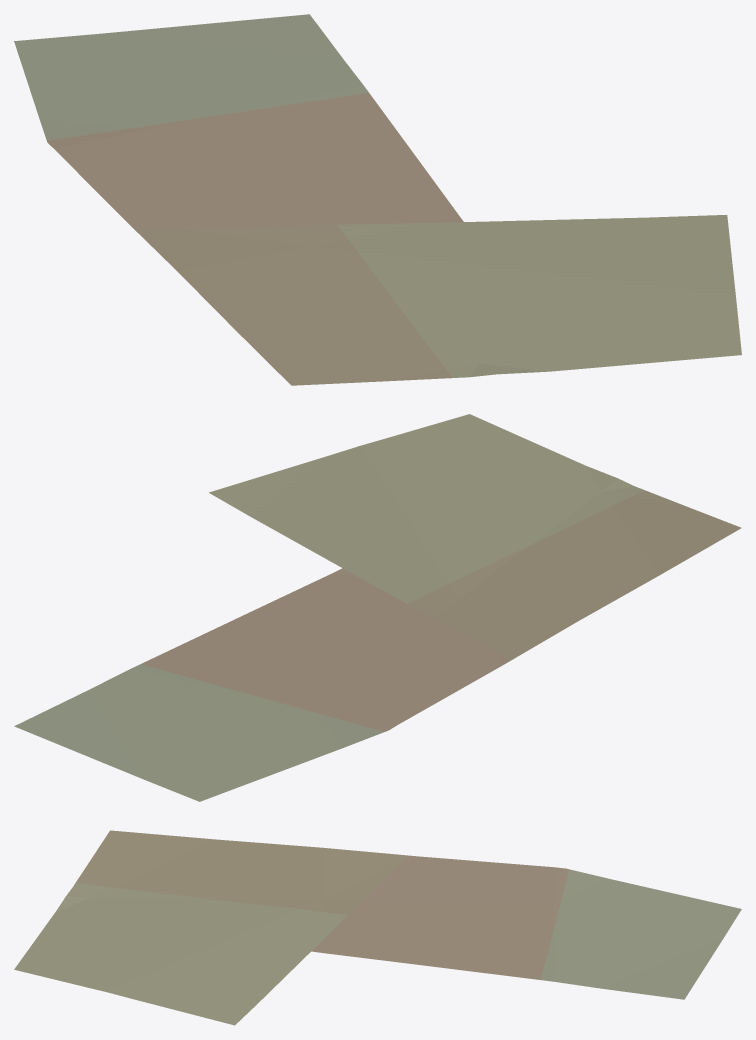
File: farm_3_5_soil.glb
The picture shows the model from 3 angles, top to bottom: view 1: azimuth 30°, elevation 25°; view 2: azimuth 150°, elevation 25°; view 3: azimuth 270°, elevation 25°; orthographic projection. The views are drawn at different scales.
Parts seen in each view (by area): view 1: geometry_0; view 2: geometry_0; view 3: geometry_0.
Part boxes in pixels (x1,y1,x2,y2): geometry_0: (14, 14, 741, 385); geometry_0: (14, 414, 741, 801); geometry_0: (14, 830, 741, 1025).
Size of the model in its own units: 147 by 8.77 by 252.
